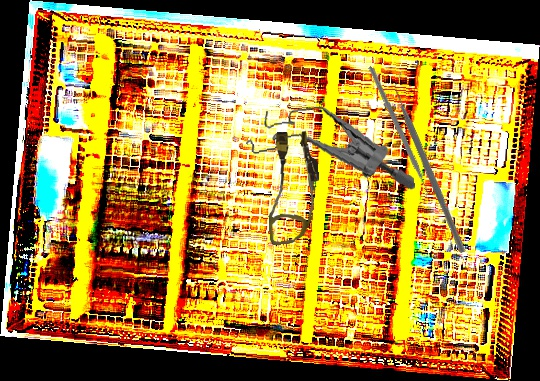Cannula: (262, 129, 324, 246)
Chopper: (334, 70, 530, 255), (322, 66, 472, 204)
Speculum: (242, 91, 416, 212)
